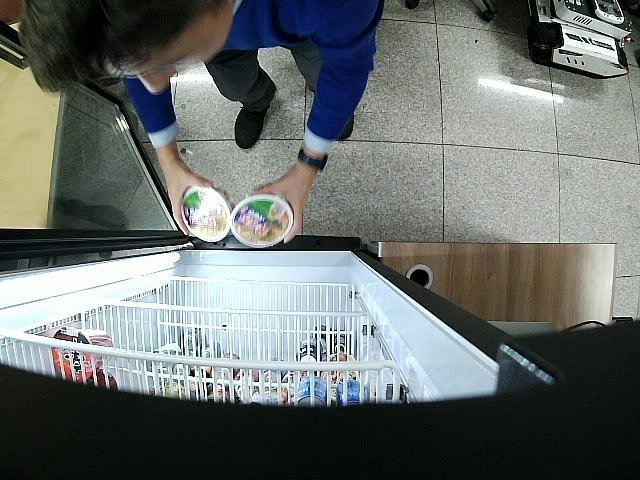09_yukGaeJang: (230, 196, 294, 248), (181, 186, 234, 243)
